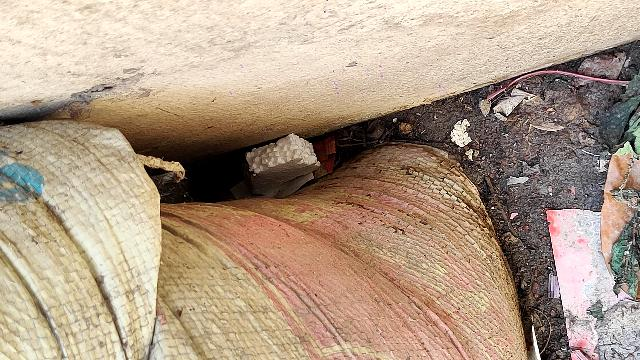cocksheet: (240, 127, 325, 198)
